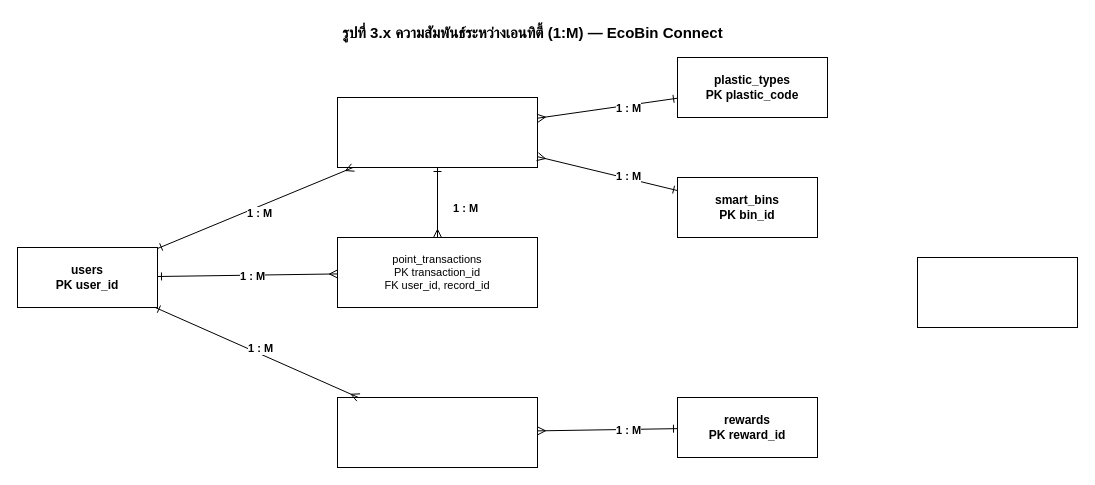
This 1095x485 diagram has some shape labels left out. The shapes that lost their labels are listed below. From the top down, each one's box as (x1, y1, x2, y2) in pixels, then its label:
(336, 96, 538, 168): waste_records PK record_id FK user_id, plastic_code, bin_id
(916, 256, 1078, 328): guest_logs PK guest_session_id (ไม่เชื่อม users)
(336, 396, 538, 468): redemptions PK redeem_id FK user_id, reward_id
